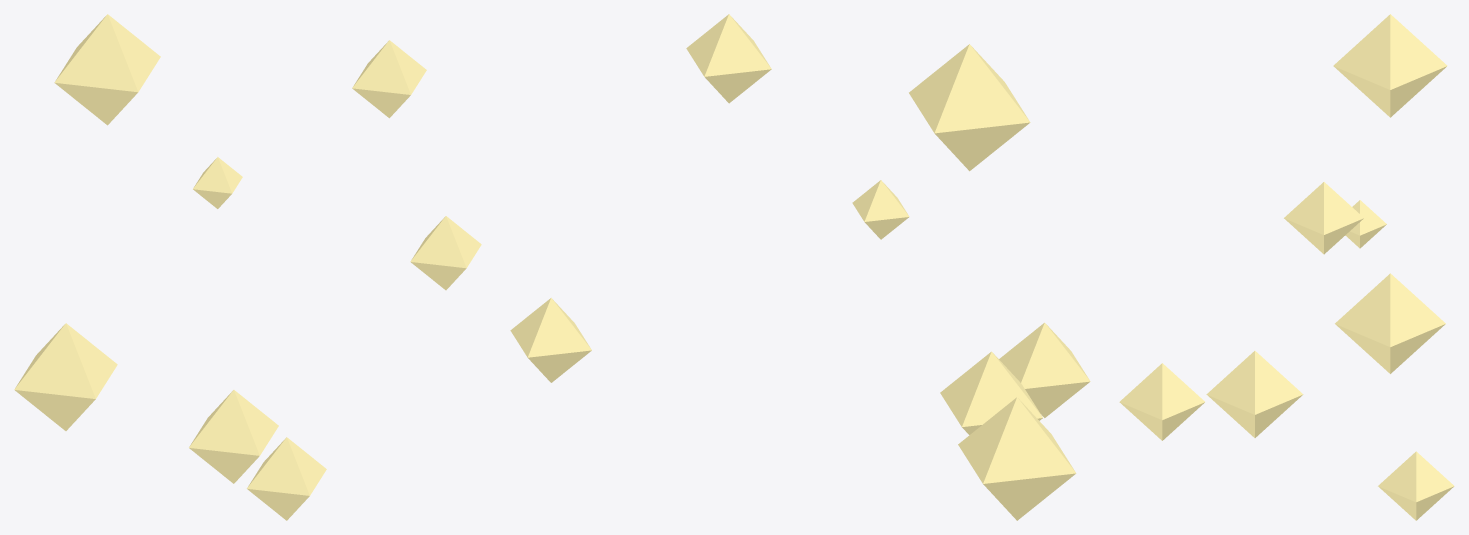
Rendered from dust.glb.
3 views of the same model, side by side, from view 1: azimuth 30°, elevation 25°; view 2: azimuth 150°, elevation 25°; view 3: azimuth 270°, elevation 25° (orthographic). The views are drawn at different scales.
Bounding box in the file's own units: 0.9593 × 0.8208 × 0.6217.
